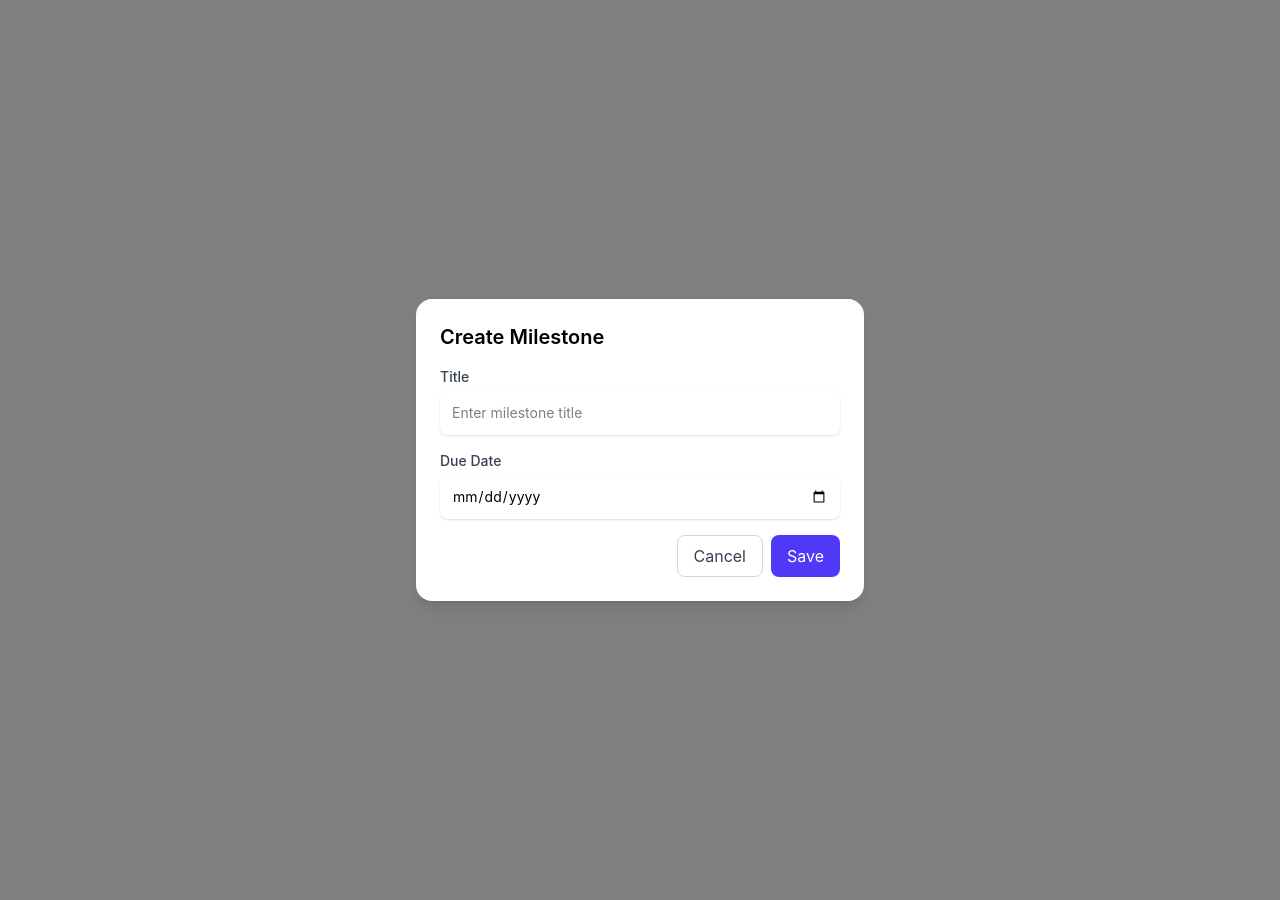
it: UpsertMilestoneModal › shows validation errors for empty fields
Click the button "Save". click: (806, 556)
box: [771,535,840,577]
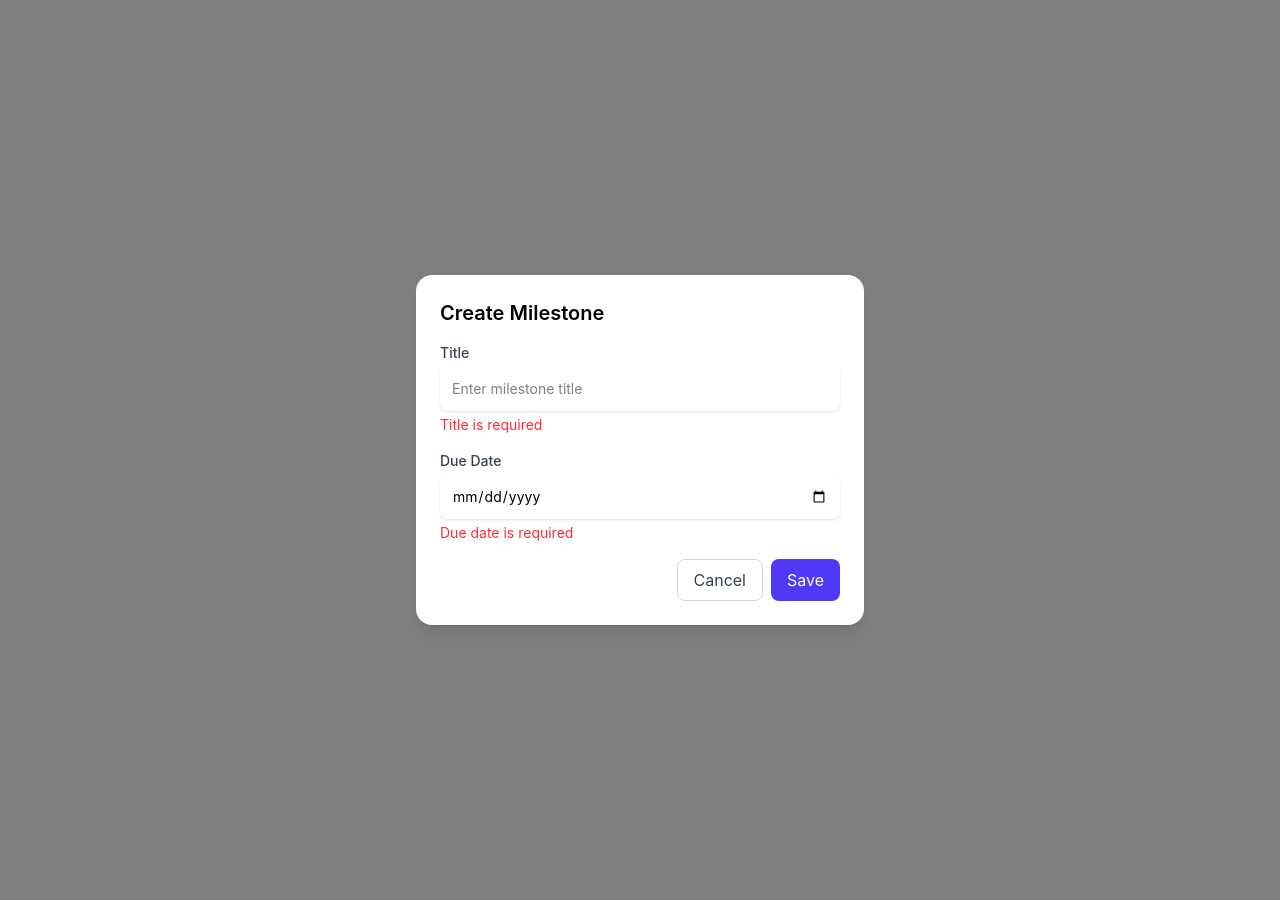
Expected: the text "Title is required" is shown, [440,416,542,433]
Expected: the text "Due date is required" is shown, [440,524,573,541]
